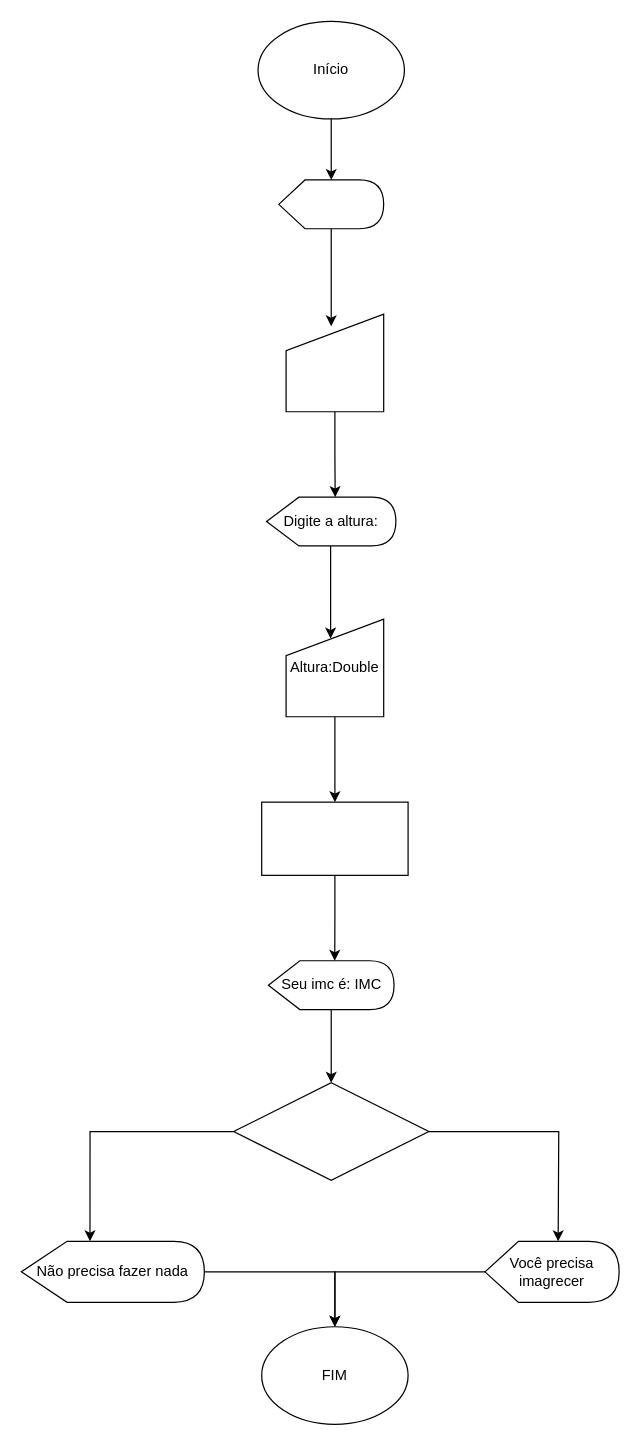
Image size: 641x1446. Some labels were removed from this diagram. The shapes that lost their labels are listed below. From the top down, each one's centre as x and y in pixels, then its label:
pixel 331 204: Digite seu peso:
pixel 334 362: Peso:Double
pixel 334 838: IMC = peso/(altura * altura)
pixel 330 1131: IMC > 25
